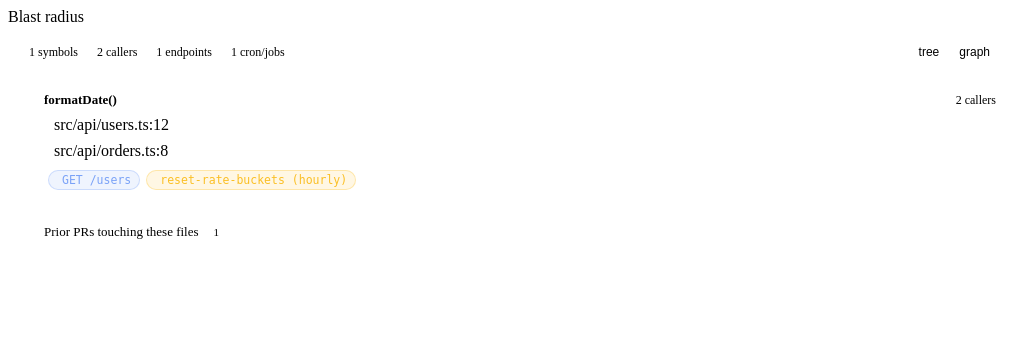
Test: BlastCard › expands the prior-PRs footer
Click the text "Prior PRs touching these files": coordinates (121, 232) 44,224 -> 198,240
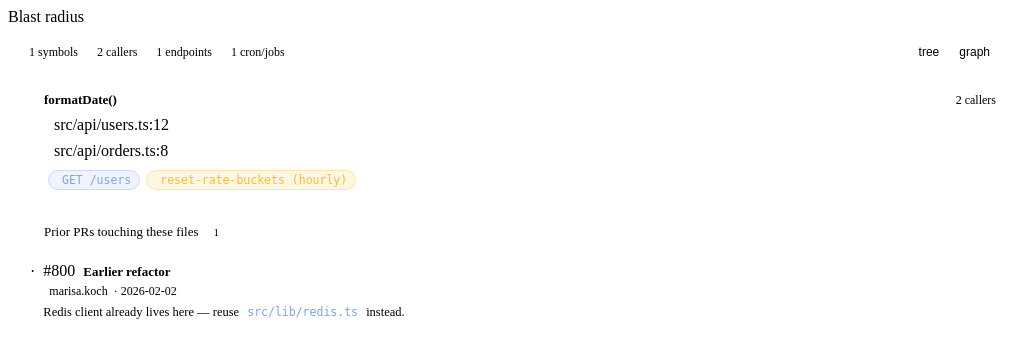
Now the text "Earlier refactor" is shown, box 83,264 -> 170,280
Now the text "marisa.koch" is shown, box 49,284 -> 108,299
Now the text "· 2026-02-02" is shown, box 114,284 -> 177,299
